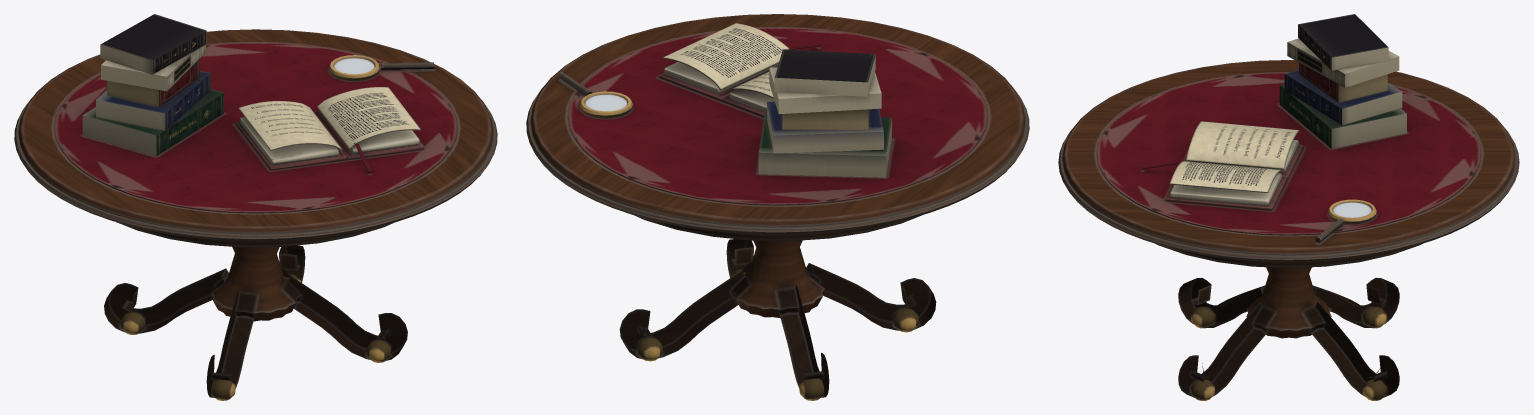
The model's file is ReadingTableRound.fbx.
3 views of the same model, side by side, from view 1: azimuth 30°, elevation 25°; view 2: azimuth 150°, elevation 25°; view 3: azimuth 270°, elevation 25° (orthographic). The views are drawn at different scales.
Visible parts, largest first — view 1: ReadingTableRound; view 2: ReadingTableRound; view 3: ReadingTableRound.
Part boxes in pixels (x1=…): ReadingTableRound: x1=14, y1=14, x2=497, y2=400; ReadingTableRound: x1=526, y1=14, x2=1029, y2=400; ReadingTableRound: x1=1058, y1=14, x2=1519, y2=400.
Size of the model in its own units: 509 by 357 by 509.
